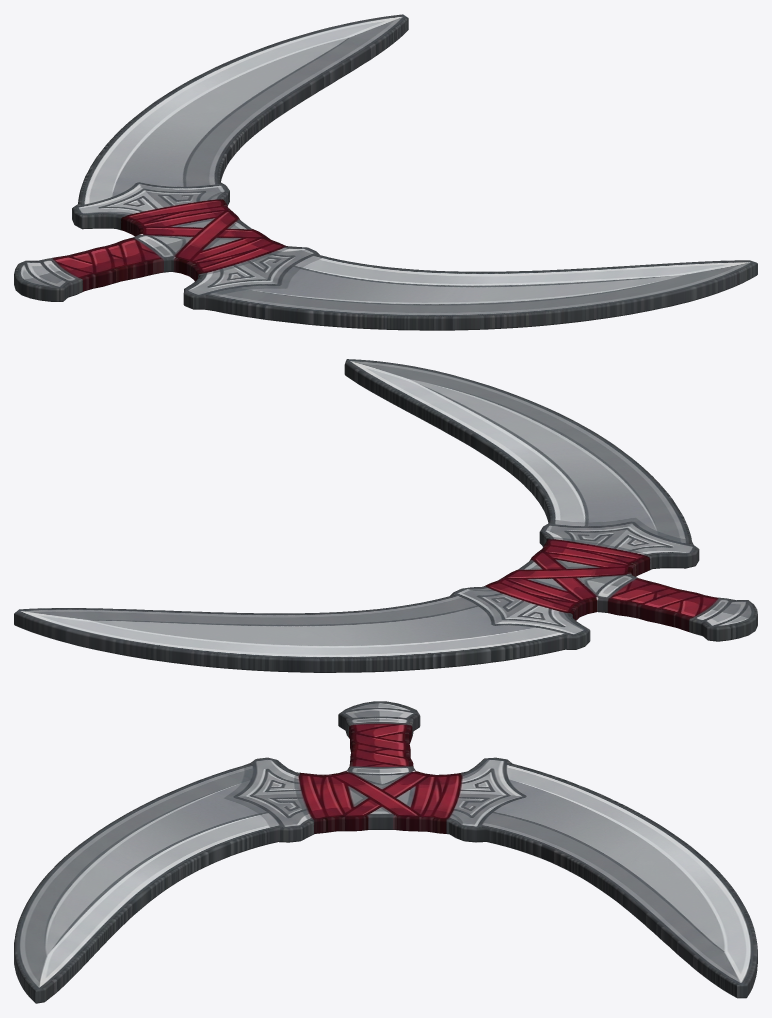
File: Boomerang_11.fbx
The picture shows the model from 3 angles, top to bottom: view 1: azimuth 30°, elevation 25°; view 2: azimuth 150°, elevation 25°; view 3: azimuth 270°, elevation 25°; orthographic projection. The views are drawn at different scales.
Visible parts, largest first — view 1: Boomerang_11; view 2: Boomerang_11; view 3: Boomerang_11.
Boxes of the visible parts, x1,y1,x2,y2 form: Boomerang_11: (14, 14, 757, 330); Boomerang_11: (14, 359, 757, 672); Boomerang_11: (14, 701, 757, 1003).
Size of the model in its own units: 178 by 4 by 193.
1 material, 1 textured.
